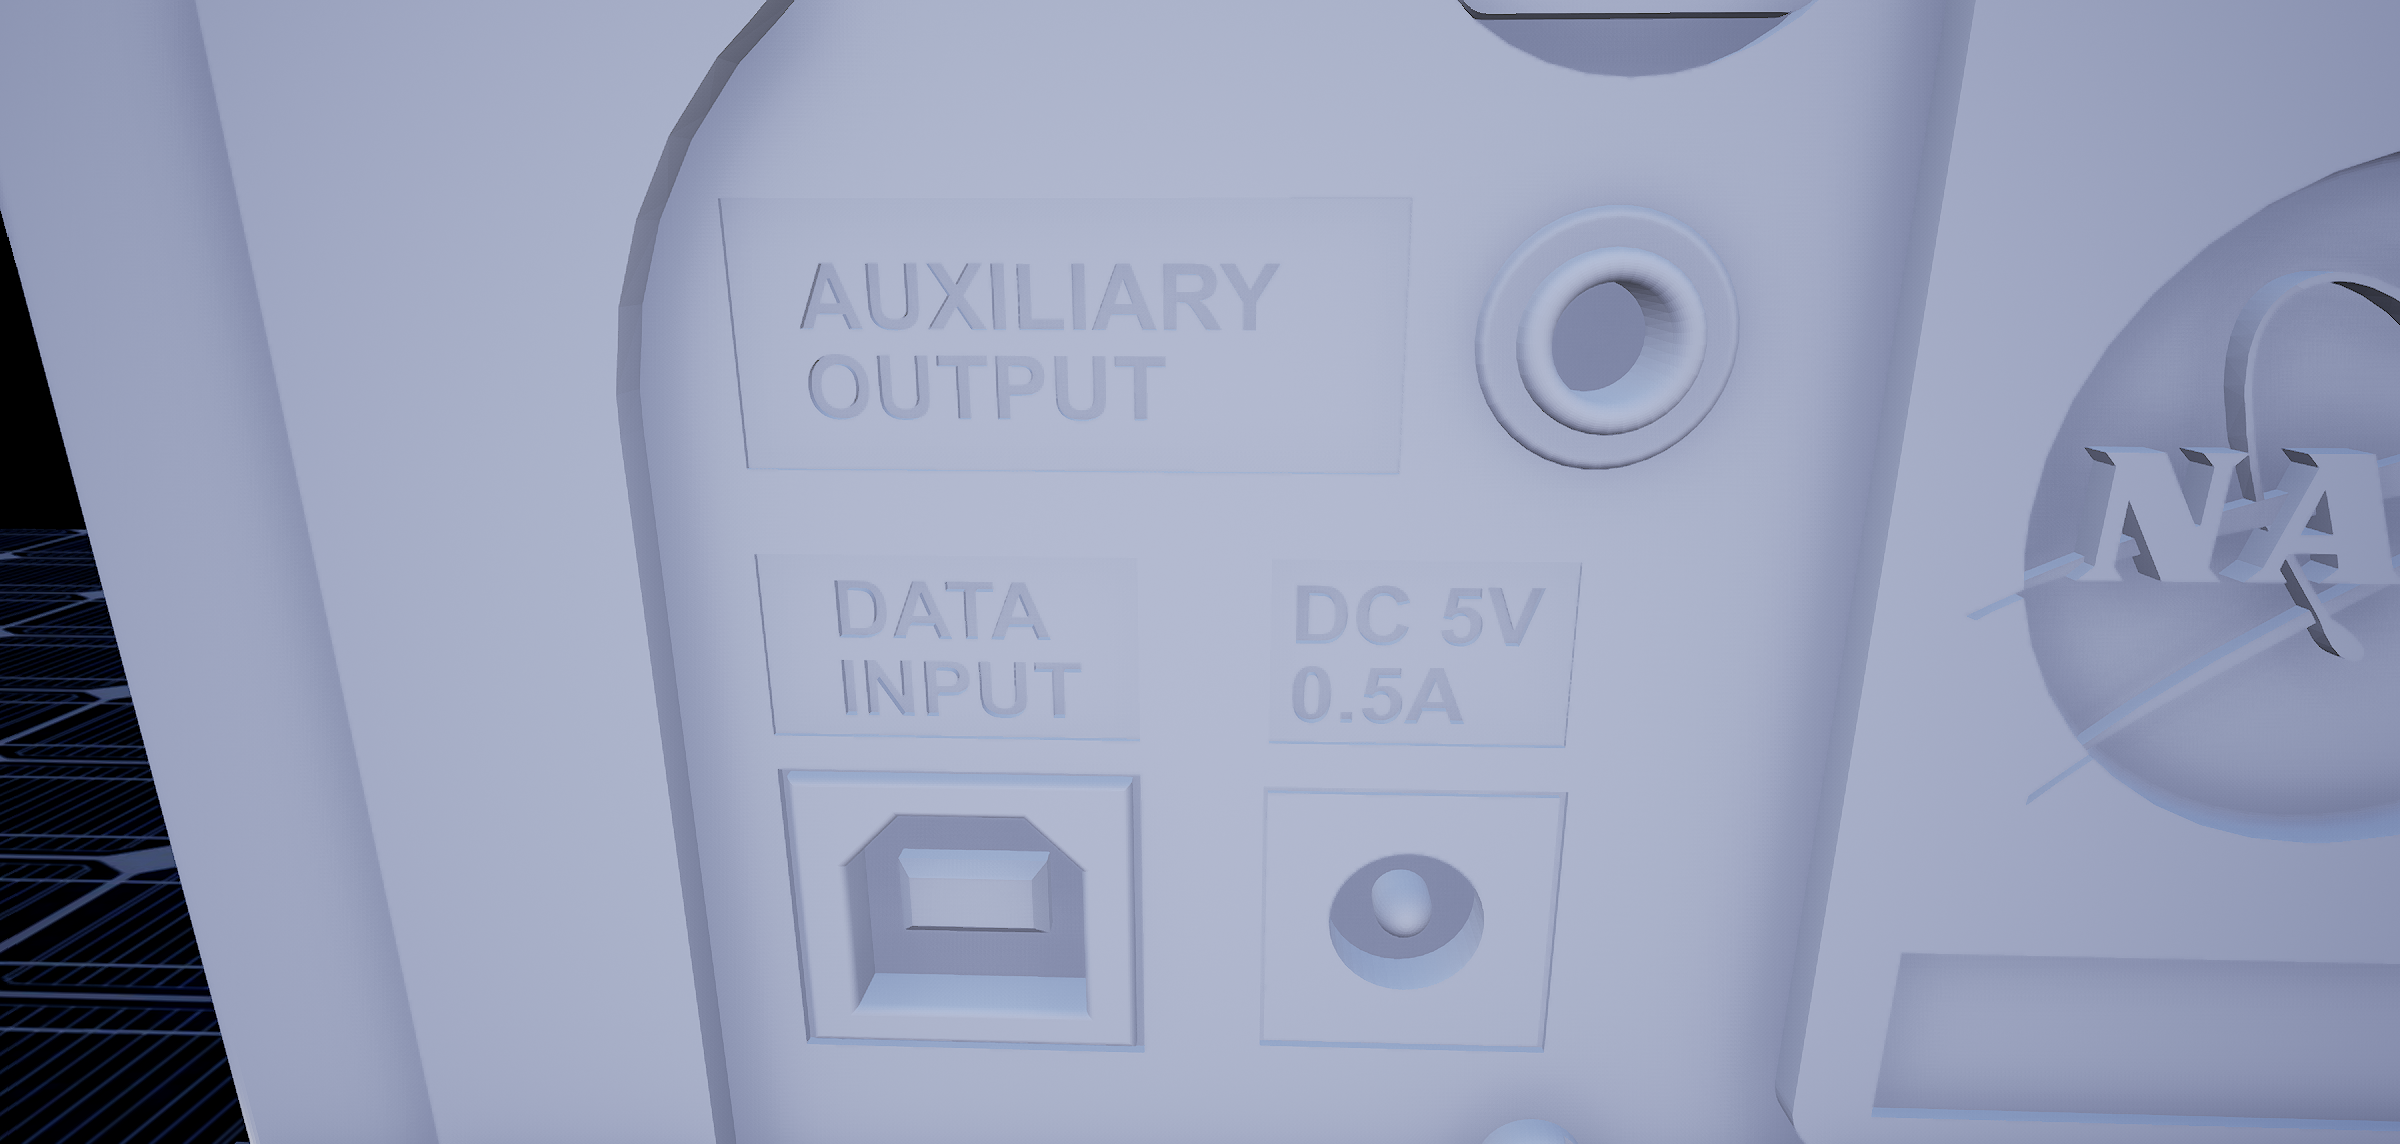aux: (1457, 179, 1762, 512)
dc: (1312, 848, 1494, 997)
usb: (827, 806, 1110, 1035)
